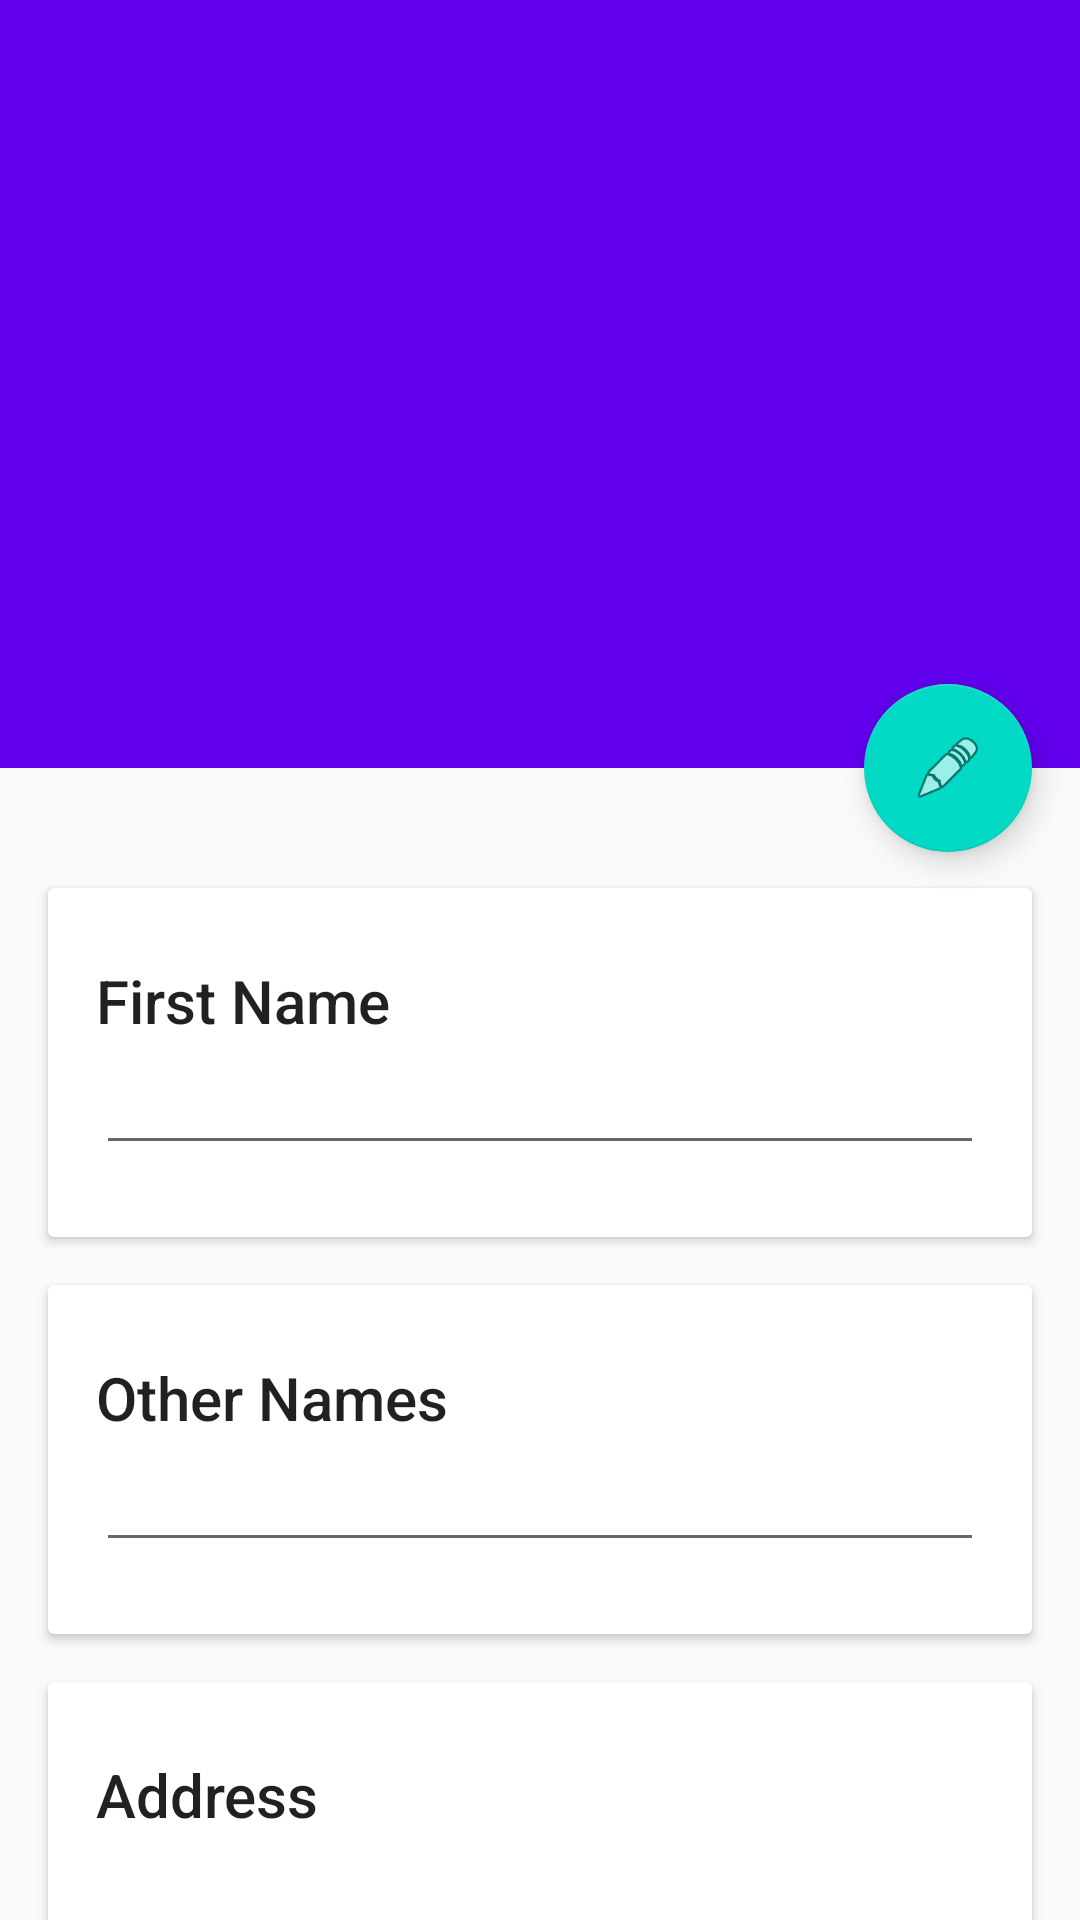

Point at icon controls on the screen. Image size 1080 × 1920, points as point (x, y).
edit: point (948, 768)
